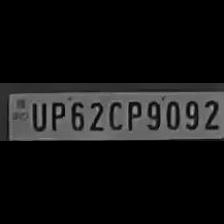0: (162, 97, 180, 130)
2: (201, 97, 221, 131), (86, 99, 104, 133)
6: (66, 99, 86, 133)
9: (142, 97, 162, 131), (182, 97, 198, 131)
C: (104, 97, 124, 131)
P: (124, 97, 142, 132), (47, 99, 65, 133)
U: (28, 99, 46, 133)
